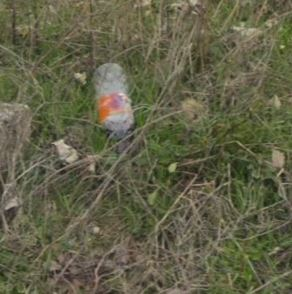trash: (80, 49, 146, 154)
